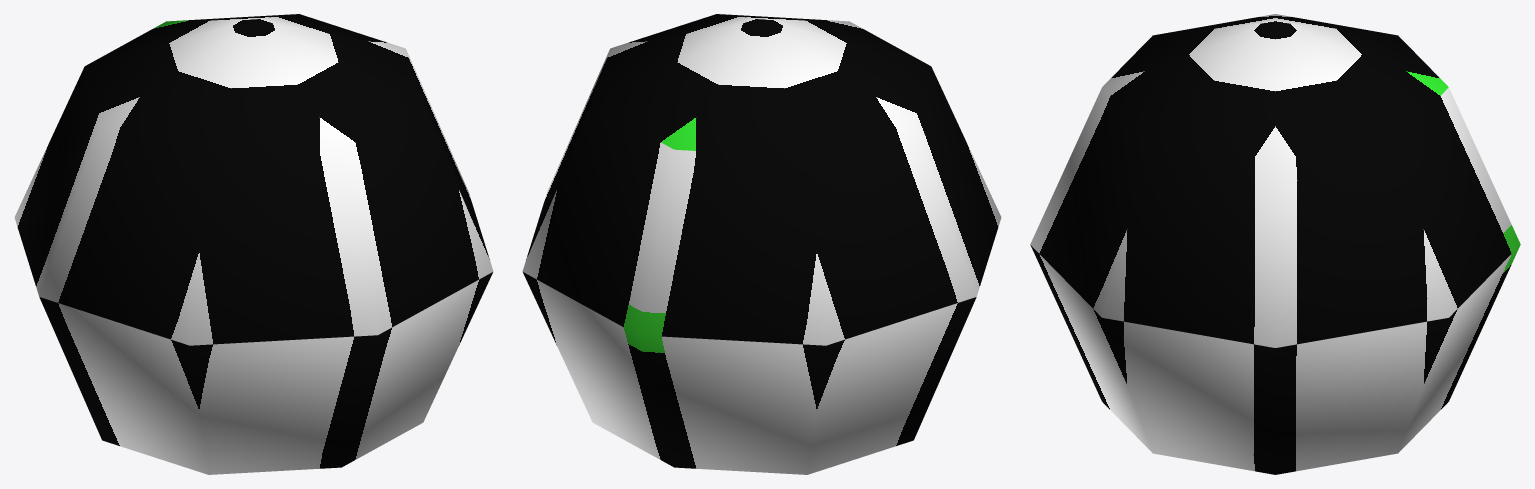
The model's file is HorizonIndicator.glb.
The picture shows the model from 3 angles, left to right: view 1: azimuth 30°, elevation 25°; view 2: azimuth 150°, elevation 25°; view 3: azimuth 270°, elevation 25°; orthographic projection.
Parts seen in each view (by area): view 1: Sphere; view 2: Sphere; view 3: Sphere.
Boxes of the visible parts, bbox=[...] form: Sphere: bbox=[14, 14, 493, 474]; Sphere: bbox=[522, 14, 1001, 474]; Sphere: bbox=[1030, 14, 1520, 474].
Size of the model in its own units: 2 by 2 by 2.
Materials: 1 (1 with a texture image).
